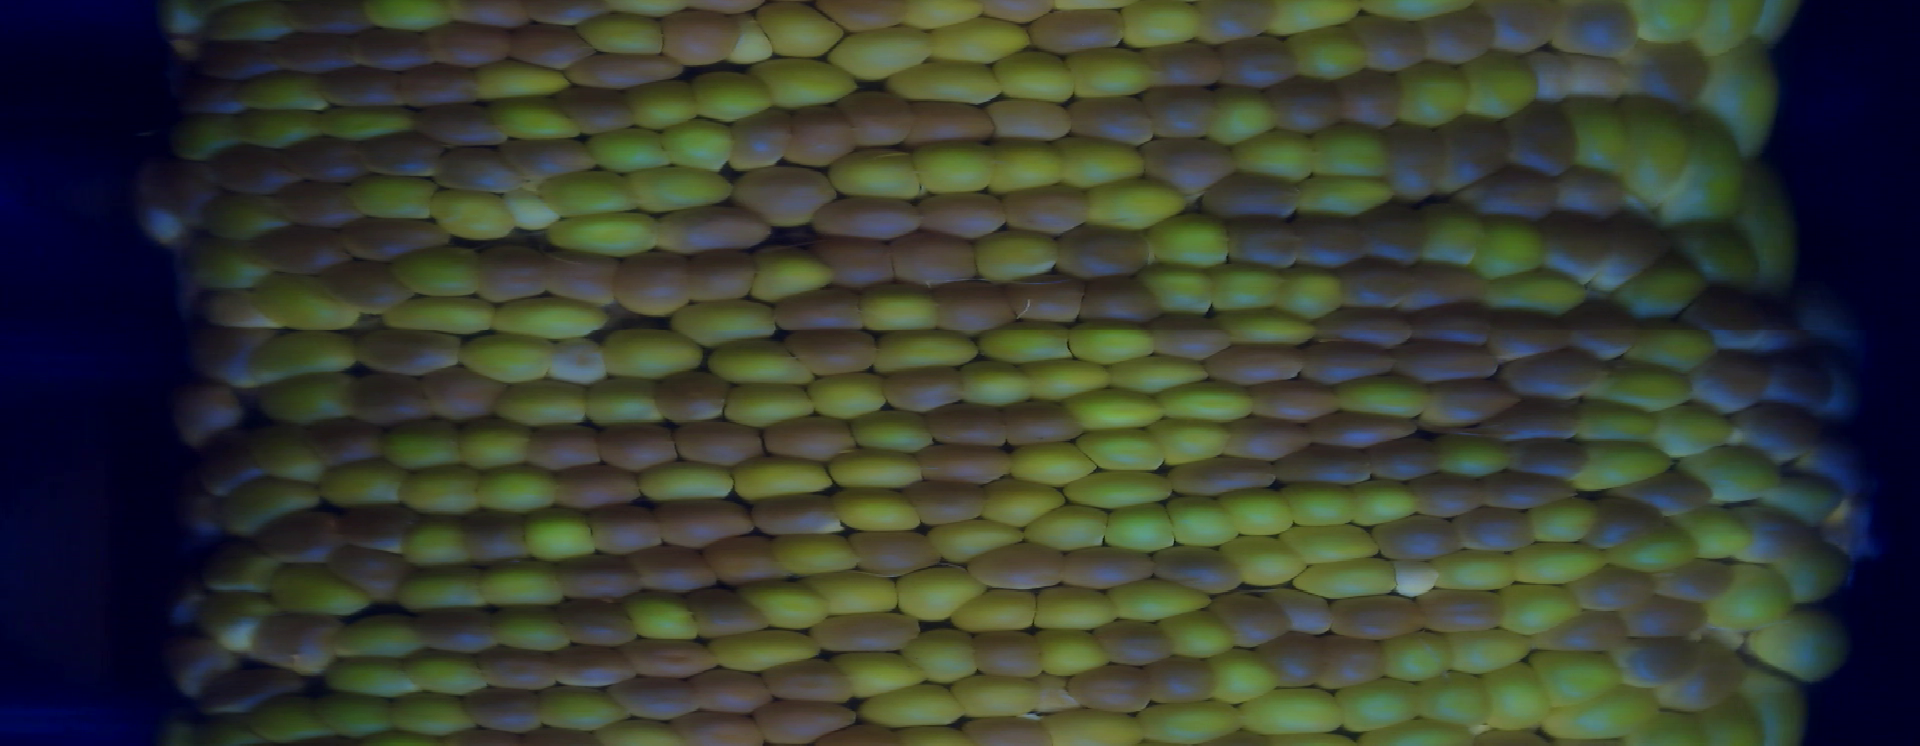fluorescent: (1647, 107, 1752, 233), (1679, 33, 1783, 156), (1607, 93, 1703, 213), (1729, 160, 1809, 293), (1745, 600, 1855, 692), (1662, 216, 1771, 303), (239, 320, 362, 394), (207, 472, 326, 546), (242, 267, 369, 337), (1702, 557, 1802, 643), (1558, 87, 1647, 183), (1536, 684, 1671, 746), (1607, 247, 1716, 325), (1233, 679, 1356, 746), (485, 287, 615, 349), (1536, 685, 1667, 746), (1469, 260, 1596, 322), (1515, 646, 1636, 710), (699, 333, 829, 393), (1576, 355, 1702, 416), (260, 552, 373, 620), (1555, 435, 1682, 495), (367, 407, 473, 479), (1460, 207, 1555, 287), (1671, 442, 1783, 510), (857, 322, 989, 379), (1452, 43, 1542, 126), (467, 548, 577, 615), (1299, 116, 1400, 190), (887, 556, 992, 626), (591, 323, 711, 385), (702, 624, 831, 680), (389, 457, 495, 526), (1735, 665, 1823, 746), (1076, 174, 1193, 235), (922, 510, 1036, 572), (825, 21, 937, 85), (1389, 56, 1480, 134), (822, 480, 931, 545), (252, 372, 370, 432), (722, 446, 840, 506), (1212, 526, 1316, 593), (607, 586, 713, 652), (189, 586, 287, 657), (541, 206, 667, 261), (1048, 130, 1155, 195), (1100, 572, 1222, 628), (1196, 80, 1289, 153), (746, 54, 864, 111), (618, 159, 740, 216), (1058, 43, 1164, 107), (512, 502, 609, 572), (1198, 636, 1289, 709), (822, 439, 933, 499), (1329, 673, 1431, 737), (1620, 314, 1723, 379), (1640, 399, 1749, 461), (820, 642, 929, 703), (743, 243, 844, 309), (744, 1, 855, 61), (300, 684, 410, 744), (182, 232, 280, 299), (1283, 555, 1406, 609), (392, 559, 500, 620), (245, 429, 339, 499), (879, 58, 1007, 109), (327, 605, 430, 669), (665, 293, 784, 348), (425, 183, 527, 246), (1431, 619, 1537, 680), (969, 223, 1068, 288), (922, 12, 1038, 67), (336, 169, 444, 228), (733, 573, 842, 632), (576, 369, 672, 435), (384, 239, 485, 303), (312, 454, 416, 516), (467, 456, 564, 521), (827, 142, 928, 205), (1270, 473, 1371, 535), (534, 167, 647, 223), (452, 330, 564, 386), (1287, 167, 1404, 220), (373, 290, 500, 341), (1416, 195, 1493, 277), (1222, 120, 1322, 183), (1060, 383, 1179, 436), (1022, 579, 1127, 639), (1476, 660, 1558, 736), (1559, 393, 1660, 454), (856, 680, 969, 735), (492, 375, 600, 432), (802, 563, 905, 624), (1753, 465, 1850, 529), (629, 456, 743, 510), (1067, 423, 1173, 480), (909, 134, 1003, 198), (1411, 668, 1505, 733), (1773, 537, 1856, 610), (1057, 467, 1182, 516), (945, 583, 1049, 642), (1506, 537, 1616, 592), (1493, 577, 1589, 639), (1131, 696, 1251, 746), (397, 643, 497, 703), (1003, 436, 1104, 495), (451, 412, 538, 480), (972, 473, 1071, 533), (972, 314, 1082, 367), (1155, 377, 1262, 432), (312, 649, 425, 702), (852, 279, 949, 341), (239, 687, 339, 746), (467, 56, 580, 108), (1270, 260, 1353, 330), (1667, 500, 1756, 565), (1373, 624, 1462, 688), (988, 47, 1082, 108), (1145, 208, 1236, 272), (767, 527, 864, 586), (1599, 522, 1706, 576), (1013, 353, 1122, 405), (195, 540, 287, 603), (220, 105, 334, 156), (1682, 1, 1776, 62), (1097, 496, 1187, 560), (951, 355, 1046, 415), (713, 377, 822, 429), (1156, 492, 1249, 552), (1142, 412, 1236, 472), (1133, 258, 1222, 321), (684, 67, 781, 125), (486, 599, 577, 660), (382, 687, 487, 740), (1430, 540, 1524, 599), (1060, 314, 1161, 369), (1210, 483, 1303, 541), (192, 281, 289, 337), (572, 9, 675, 61), (481, 93, 587, 145), (531, 684, 637, 735), (157, 108, 245, 169), (1212, 303, 1322, 352), (307, 99, 426, 145), (1270, 522, 1382, 570), (1336, 475, 1429, 533), (947, 670, 1049, 722), (1147, 605, 1239, 663), (845, 407, 943, 461), (1097, 352, 1213, 397), (225, 69, 336, 116), (980, 134, 1069, 192), (658, 113, 740, 176), (620, 73, 705, 134), (1520, 490, 1607, 549), (1116, 1, 1215, 53), (583, 121, 675, 176), (1202, 260, 1287, 318), (800, 370, 893, 423), (193, 1, 294, 49), (1042, 706, 1155, 746), (212, 192, 296, 245), (1622, 1, 1716, 49), (355, 1, 467, 37), (497, 186, 566, 235), (725, 9, 779, 69), (898, 1, 989, 36), (156, 1, 216, 45)
nonfluorescent: (1788, 269, 1878, 366), (1588, 205, 1682, 296), (1811, 405, 1892, 508), (1653, 633, 1750, 719), (725, 160, 844, 230), (1425, 110, 1515, 198), (1804, 336, 1884, 432), (178, 318, 287, 390), (648, 202, 782, 258), (190, 658, 311, 720), (1723, 499, 1828, 570), (1138, 134, 1244, 202), (1494, 98, 1583, 179), (1048, 219, 1158, 284), (1725, 399, 1827, 469), (1624, 36, 1717, 111), (246, 609, 349, 677), (345, 325, 468, 382), (1536, 208, 1620, 292), (605, 245, 696, 322), (1414, 372, 1531, 432), (151, 628, 249, 699), (1373, 119, 1455, 202), (1453, 160, 1565, 222), (1558, 294, 1652, 366), (804, 606, 931, 660), (1473, 306, 1583, 367), (1386, 334, 1511, 388), (923, 274, 1025, 341), (676, 582, 775, 649), (311, 257, 418, 320), (1341, 9, 1435, 78), (654, 4, 749, 72), (1495, 347, 1607, 405), (1395, 258, 1498, 322), (1685, 347, 1776, 419), (882, 228, 984, 290), (165, 374, 249, 451), (119, 163, 195, 247), (244, 220, 358, 277), (200, 138, 306, 198), (336, 212, 457, 265), (324, 539, 418, 608), (1284, 209, 1382, 274), (900, 473, 996, 539), (249, 506, 348, 570), (1409, 5, 1505, 71), (452, 502, 544, 571), (600, 669, 709, 726), (1020, 4, 1136, 58), (1266, 439, 1382, 492), (1160, 451, 1287, 500), (534, 243, 624, 311), (1198, 168, 1308, 224), (780, 323, 885, 382), (666, 413, 771, 472), (1607, 633, 1709, 693), (965, 538, 1074, 594), (754, 653, 863, 709), (615, 633, 729, 687), (1322, 592, 1436, 646), (806, 194, 931, 243), (547, 457, 647, 518), (650, 495, 760, 550), (1548, 1, 1647, 62), (1144, 543, 1251, 599), (404, 601, 509, 659), (144, 152, 223, 229), (342, 367, 438, 430), (1060, 659, 1161, 719), (1348, 198, 1431, 271), (1580, 494, 1674, 557), (1523, 605, 1635, 659), (807, 232, 905, 293), (1199, 339, 1318, 390), (1260, 73, 1347, 142), (1678, 283, 1764, 352), (841, 526, 951, 579), (1476, 396, 1586, 450), (420, 364, 513, 428), (1288, 338, 1403, 390), (911, 439, 1020, 492), (911, 187, 1015, 244), (1616, 464, 1720, 521), (1309, 303, 1423, 354), (835, 85, 922, 152), (996, 179, 1097, 236), (699, 532, 801, 589), (549, 549, 650, 606), (746, 489, 853, 543), (1140, 307, 1237, 367), (770, 283, 876, 338), (759, 412, 864, 467), (1054, 541, 1160, 597), (1135, 80, 1224, 145), (900, 97, 1003, 153), (624, 541, 725, 599), (1213, 29, 1305, 92), (1071, 272, 1171, 330), (564, 49, 687, 96), (591, 415, 684, 477), (468, 241, 552, 309), (994, 394, 1091, 453), (273, 132, 378, 186), (1613, 589, 1720, 642), (1221, 212, 1311, 274), (329, 500, 430, 556), (1369, 510, 1469, 566), (1735, 289, 1817, 358), (550, 594, 645, 653), (778, 102, 861, 169), (1303, 409, 1427, 454), (467, 639, 568, 695), (1062, 93, 1161, 149), (1309, 628, 1393, 695), (999, 267, 1089, 330), (751, 695, 864, 744), (1764, 348, 1844, 418), (1218, 415, 1324, 468), (578, 500, 672, 559), (349, 127, 449, 183), (918, 399, 1019, 454), (680, 244, 764, 309), (978, 94, 1080, 148), (298, 412, 387, 473), (426, 142, 525, 197), (1205, 587, 1296, 647), (966, 625, 1053, 687), (550, 81, 644, 138), (1501, 434, 1602, 488), (1135, 39, 1233, 94), (681, 664, 779, 719), (721, 109, 800, 178), (419, 20, 520, 72), (544, 642, 645, 695), (410, 100, 516, 151), (1474, 467, 1580, 517), (1138, 649, 1227, 708), (651, 367, 737, 429), (311, 62, 415, 113), (168, 480, 231, 562), (1476, 1, 1566, 59), (193, 424, 263, 499), (504, 20, 599, 75), (391, 56, 485, 111), (456, 682, 550, 737), (1333, 255, 1422, 314), (1401, 301, 1504, 352), (1082, 615, 1178, 669), (1411, 586, 1515, 635), (519, 419, 607, 477), (1573, 562, 1664, 617), (1183, 1, 1284, 50), (1245, 379, 1347, 428), (498, 134, 602, 181), (878, 363, 970, 416), (1333, 69, 1408, 135), (347, 24, 442, 76), (1255, 627, 1333, 690), (1450, 502, 1542, 555), (1551, 160, 1632, 219), (266, 29, 362, 78), (185, 39, 288, 85), (1360, 431, 1445, 485), (1260, 583, 1341, 638), (1404, 467, 1489, 519), (272, 179, 366, 225), (1556, 49, 1633, 105), (807, 1, 918, 38), (1658, 556, 1738, 608), (280, 1, 378, 39), (170, 72, 250, 119), (162, 570, 216, 635), (955, 713, 1059, 746), (1524, 49, 1580, 104), (444, 1, 535, 33), (519, 1, 618, 29)
